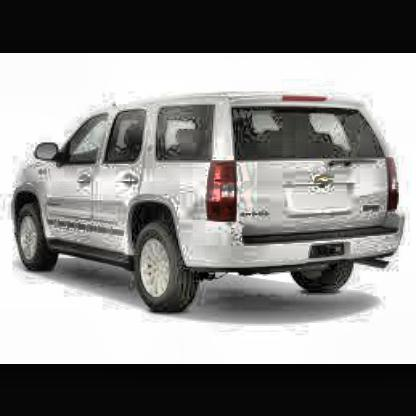Chevrolet Tahoe Hybrid SUV 2012: (10, 95, 408, 318)
